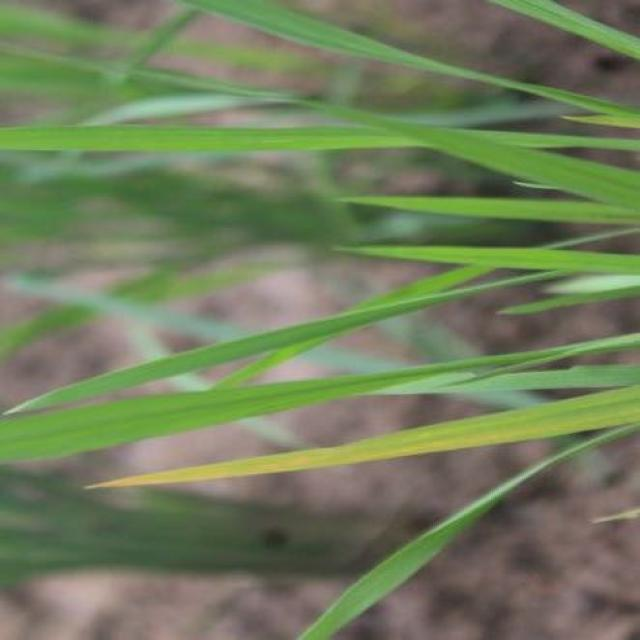Tungro: (69, 386, 640, 518)
